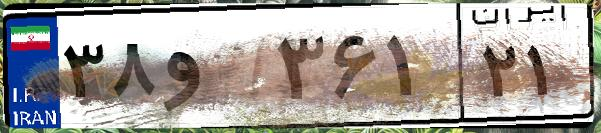1: (385, 28, 445, 110), (525, 38, 570, 115)
2: (475, 38, 525, 113)
3: (270, 28, 330, 110), (57, 26, 110, 100)
6: (330, 28, 385, 110)
8: (110, 28, 158, 98)
و: (158, 20, 270, 120)
